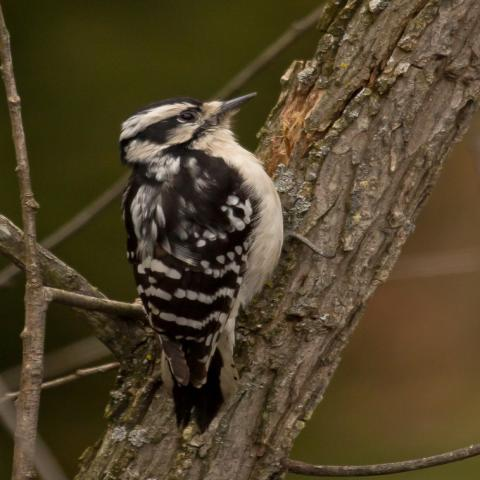bird: (114, 90, 286, 434)
